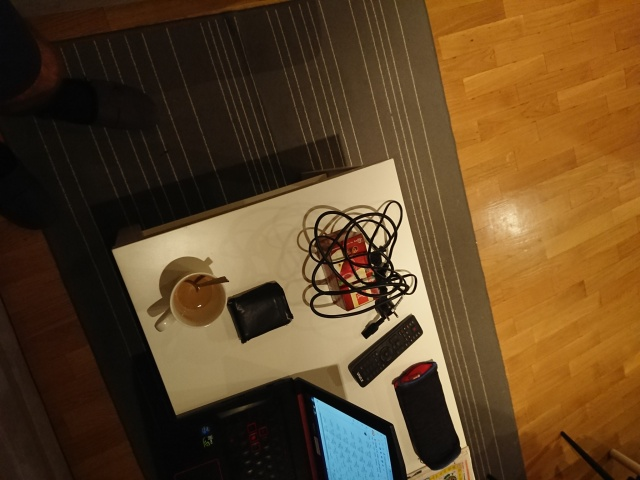Franck Apple Cinnamon Tea 60g: (313, 227, 382, 313)
